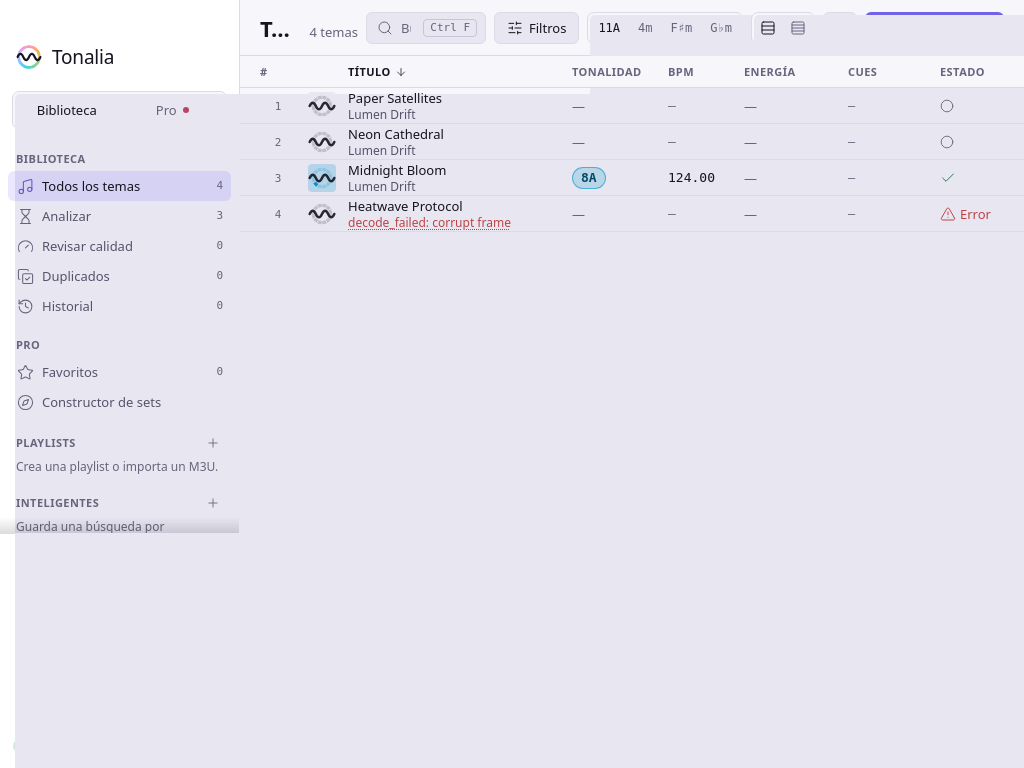
Scenario: analyse queue › says why a track failed in every list, with a retry in the reason
What coordinates should you click on to do the following:
click the button with aria-label "Ver por qué falló «Heatwave Protocol»"
I would click on:
 (454, 222)
Its box is x1=348 y1=214 x2=560 y2=230.
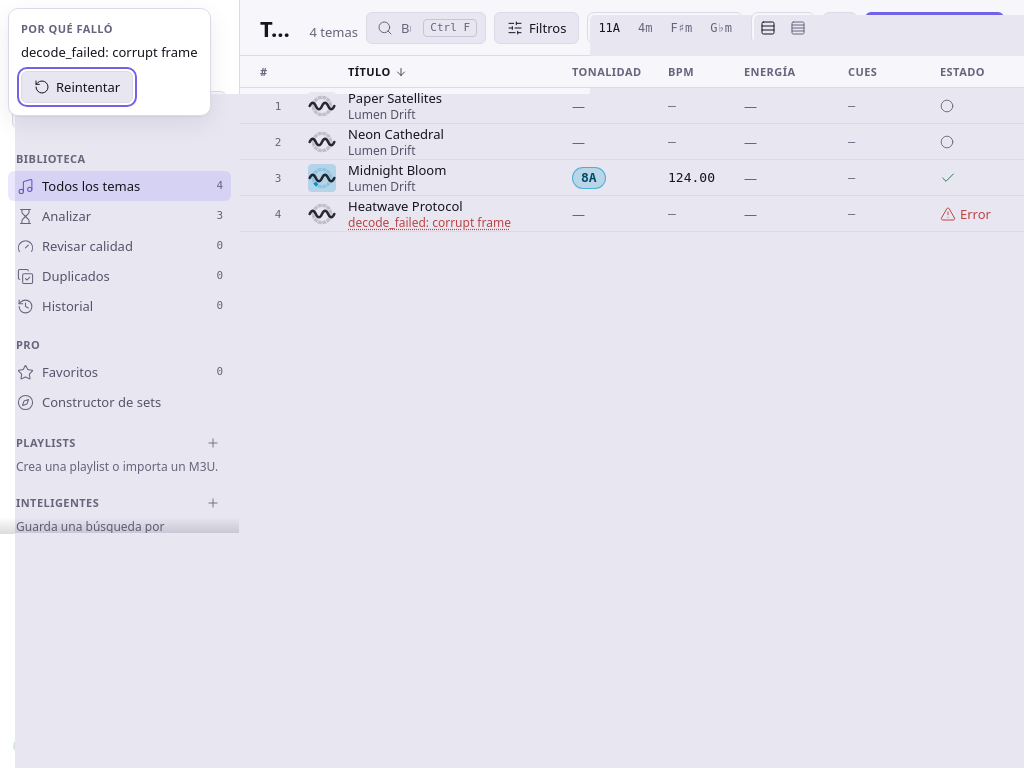
What coordinates should you click on to do the following:
click the button "Reintentar"
I would click on:
 (77, 87)
Its box is x1=21 y1=71 x2=133 y2=103.
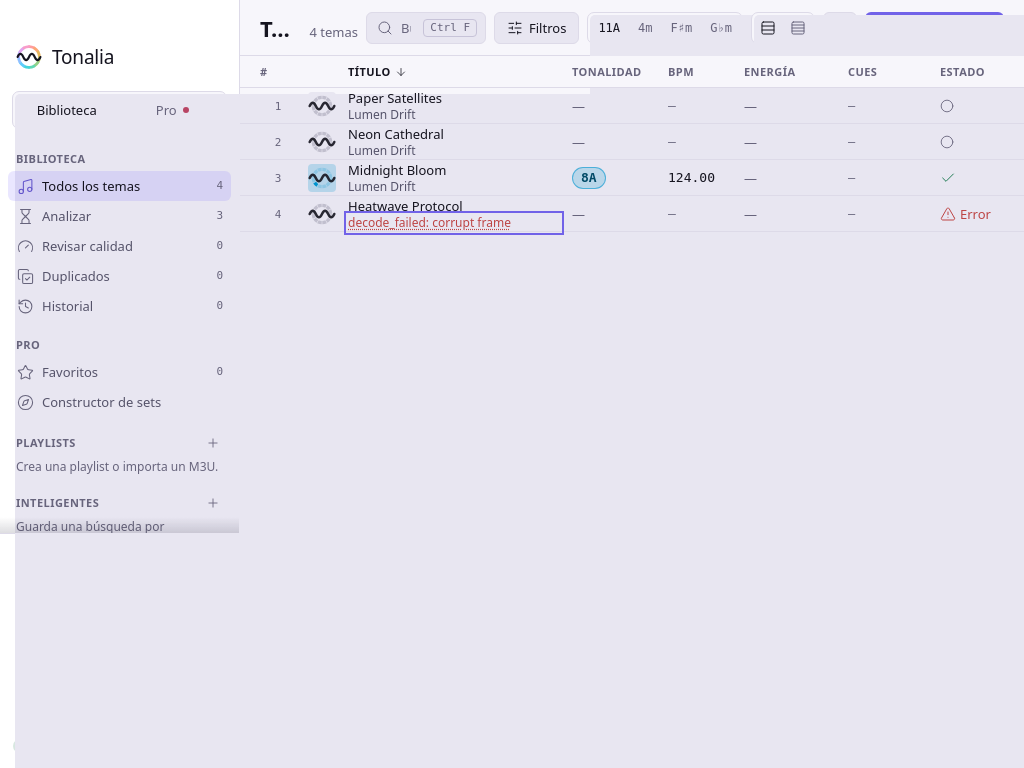
Expected: the text "Por qué falló" is gone
